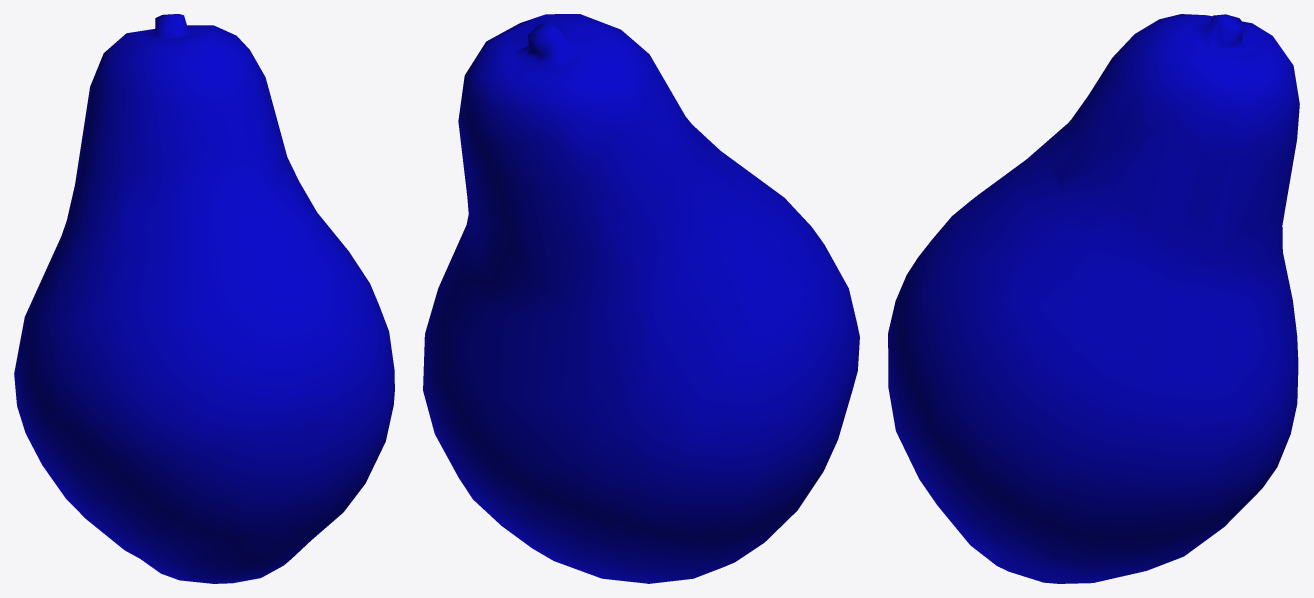
The model's file is 08194_sparse_textured_ok.obj.
3 views of the same model, side by side, from view 1: azimuth 30°, elevation 25°; view 2: azimuth 150°, elevation 25°; view 3: azimuth 270°, elevation 25° (orthographic). The views are drawn at different scales.
Parts seen in each view (by area): view 1: textured_ok; view 2: textured_ok; view 3: textured_ok.
Part boxes in pixels (x1,y1,x2,y2): textured_ok: (14, 14, 394, 583); textured_ok: (423, 14, 859, 583); textured_ok: (888, 14, 1299, 583).
Size of the model in its own units: 0.0667 by 0.1006 by 0.0657.
